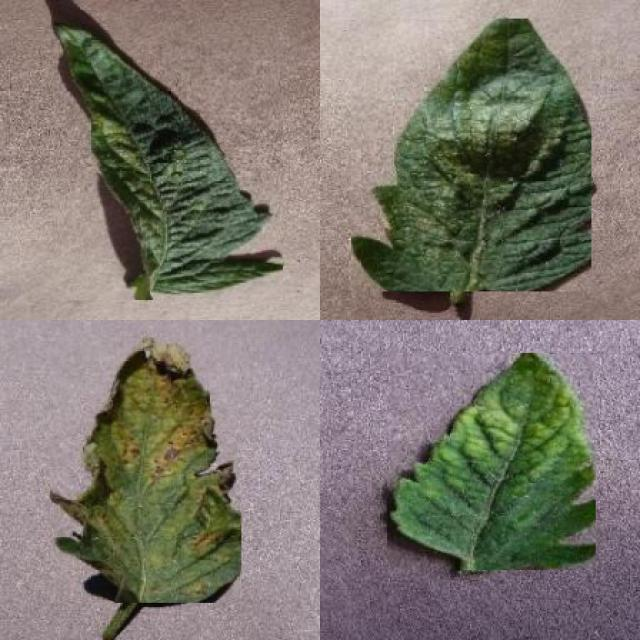Mosaic Virus: (387, 353, 596, 570)
Septoria: (50, 337, 241, 603)
Spider Mites: (349, 18, 592, 292), (55, 23, 284, 300)
